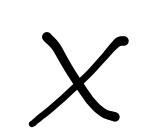mult: (29, 32, 129, 127)
